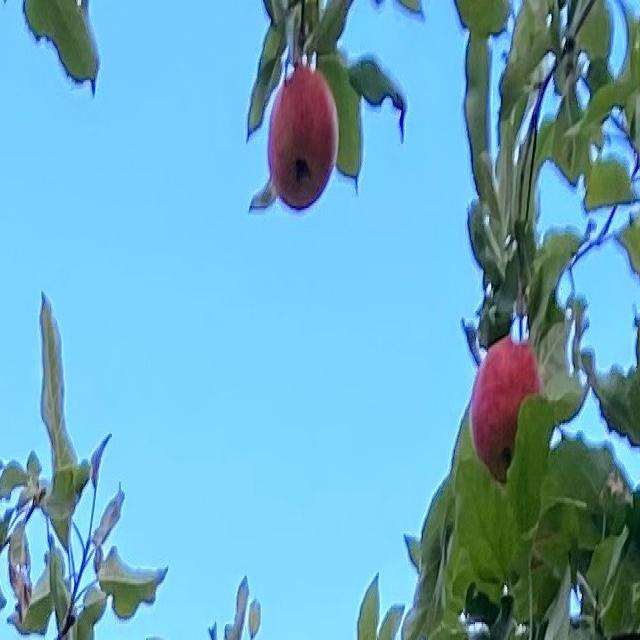Apples: (269, 68, 339, 210), (474, 342, 539, 484)
